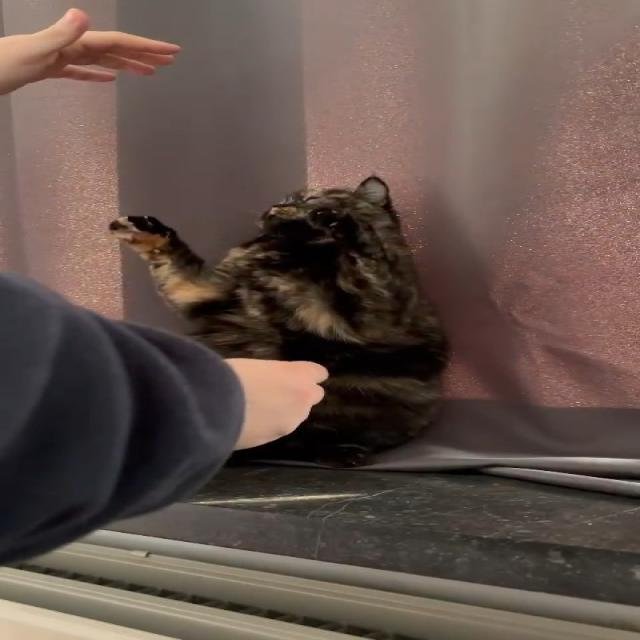authorized: (107, 174, 452, 469)
